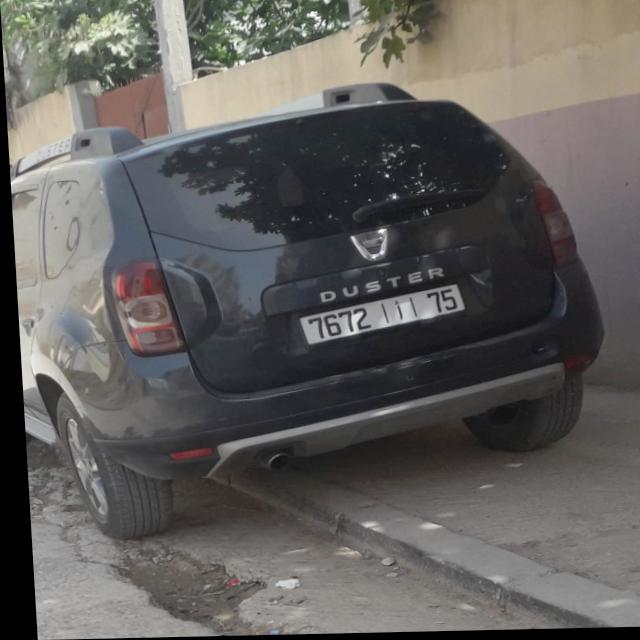License-Plate: (296, 287, 461, 346)
